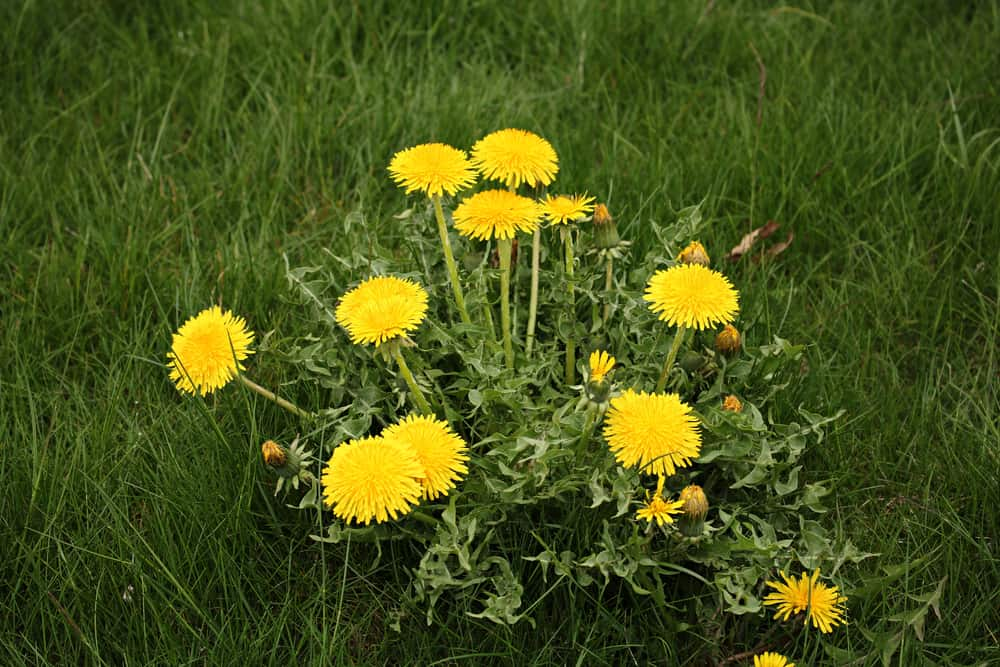begonvil: (441, 176, 554, 318), (311, 428, 433, 559), (585, 378, 708, 500), (327, 266, 452, 385), (643, 254, 756, 380), (369, 124, 486, 227), (159, 306, 269, 407), (751, 556, 855, 658), (383, 406, 478, 515), (473, 104, 567, 209), (525, 180, 609, 278), (561, 336, 620, 411), (625, 468, 687, 537)
